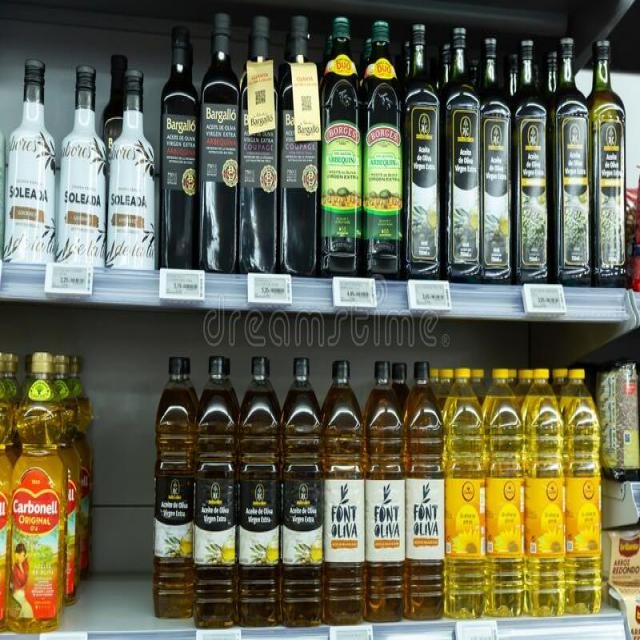Oil: (406, 31, 625, 287), (152, 358, 324, 632), (158, 13, 321, 276), (437, 370, 607, 620), (322, 364, 445, 625), (315, 18, 406, 282), (0, 445, 74, 632)
